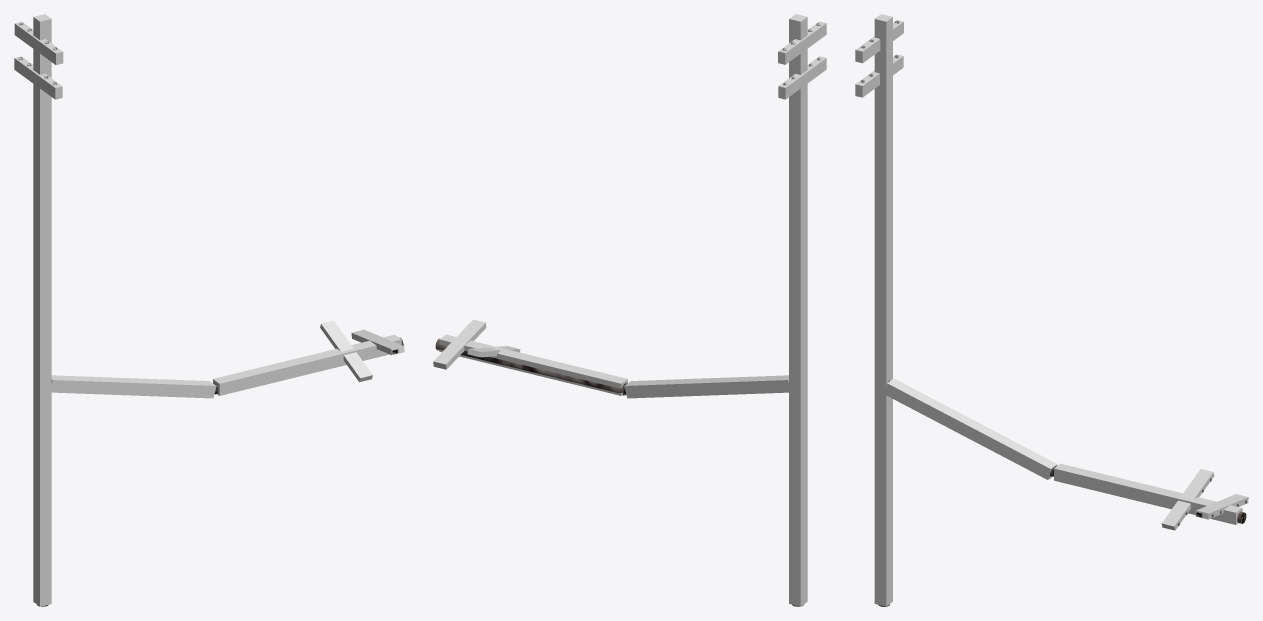
File: VOGD_M_ELECTRICITY_POLE_201.FBX
3 views of the same model, side by side, from view 1: azimuth 30°, elevation 25°; view 2: azimuth 150°, elevation 25°; view 3: azimuth 330°, elevation 25° (orthographic).
Visible parts, largest first — view 1: CH_Object03, CH_Object011, CH_Object006, CH_Object005, CH_Object007, CH_Object01, CH_Object02, CH_Object008; view 2: CH_Object03, CH_Object011, CH_Object005, CH_Object006, CH_Object008, Mesh001, CH_Object02, CH_Object01; view 3: CH_Object03, CH_Object011, CH_Object004, CH_Object005, CH_Object006, CH_Object007, CH_Object008.
Boxes of the visible parts, box(x1,y1,x2,y2) form: CH_Object03: box(33, 14, 51, 606); CH_Object011: box(35, 14, 51, 606); CH_Object006: box(213, 334, 401, 395); CH_Object005: box(51, 375, 216, 398); CH_Object007: box(320, 320, 372, 382); CH_Object01: box(14, 22, 62, 64); CH_Object02: box(14, 56, 62, 99); CH_Object008: box(351, 329, 404, 354); CH_Object03: box(789, 14, 807, 606); CH_Object011: box(789, 14, 805, 606); CH_Object005: box(624, 375, 788, 398); CH_Object006: box(439, 334, 627, 395); CH_Object008: box(433, 319, 486, 369); Mesh001: box(435, 338, 627, 395); CH_Object02: box(778, 56, 826, 99); CH_Object01: box(778, 21, 826, 64); CH_Object03: box(874, 14, 891, 606); CH_Object011: box(874, 15, 892, 606); CH_Object004: box(874, 387, 892, 605); CH_Object005: box(885, 378, 1057, 479); CH_Object006: box(1054, 463, 1242, 524); CH_Object007: box(1161, 469, 1214, 530); CH_Object008: box(1195, 494, 1248, 519).
Size of the model in its own units: 78.74 by 15.8 by 120.
2 materials, 2 textured.
